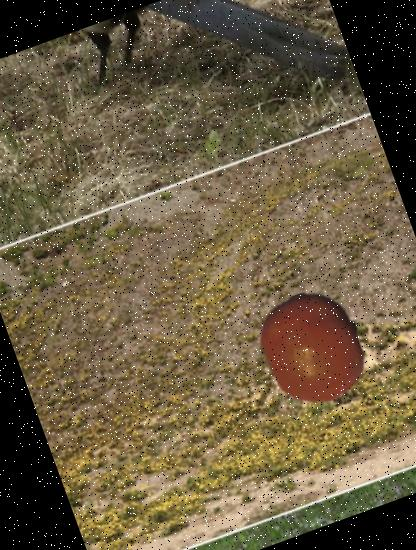Clementine: (241, 276, 385, 420)
